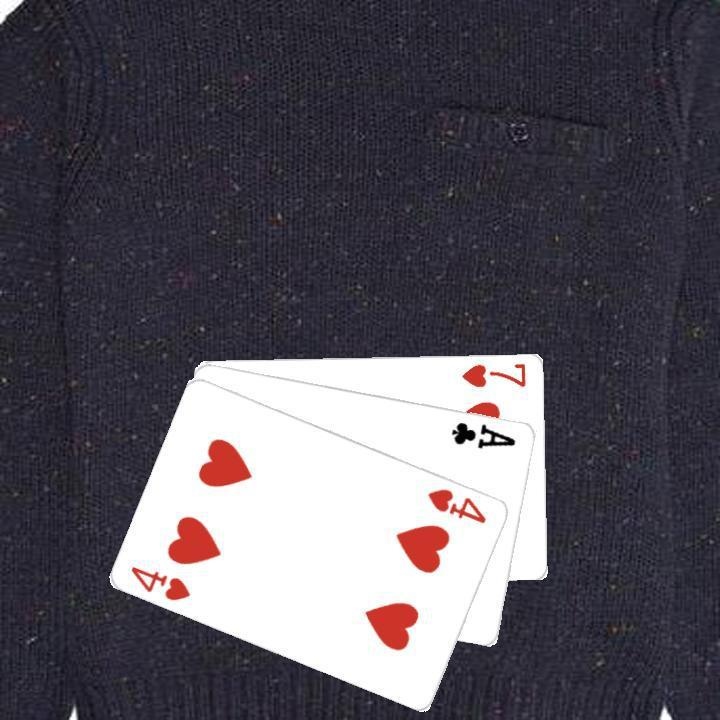4: (127, 561, 193, 603), (424, 484, 489, 525)
7: (457, 358, 529, 388)
A: (448, 417, 518, 450)
